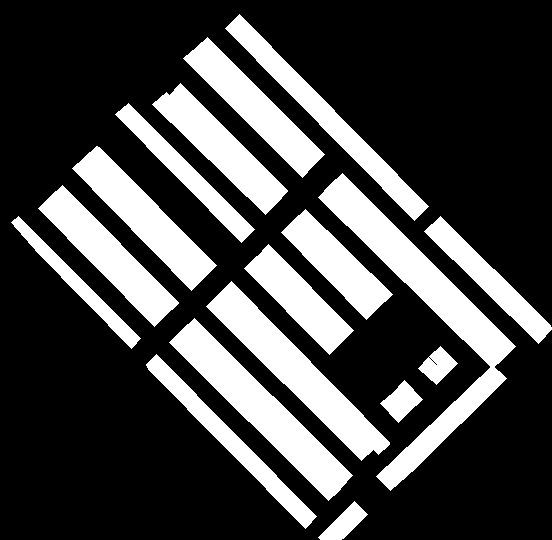parkingspot: (225, 14, 428, 220), (330, 173, 515, 358), (318, 184, 503, 368), (218, 281, 389, 454), (146, 354, 316, 528), (181, 318, 352, 489), (169, 329, 340, 500), (206, 292, 374, 460), (115, 103, 254, 242), (72, 157, 204, 290), (84, 146, 216, 278), (11, 216, 140, 348), (183, 47, 312, 177), (49, 185, 178, 314), (38, 196, 166, 326), (196, 37, 324, 166), (424, 216, 552, 343), (376, 365, 506, 490), (152, 92, 277, 214), (168, 83, 287, 203), (292, 209, 392, 307), (281, 220, 379, 319), (244, 256, 342, 354), (256, 244, 353, 342), (318, 501, 367, 540), (380, 392, 410, 422), (392, 380, 422, 410), (429, 346, 457, 374), (418, 357, 446, 384)
